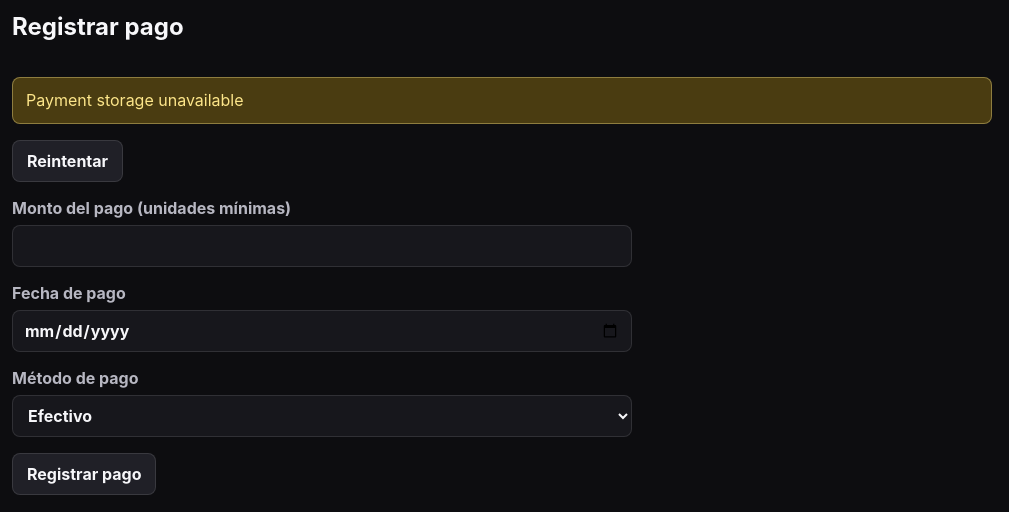
PaymentForm › retries a failed payment load from the production form and restores its controls and status
Check: the message reads "Payment storage unavailable", box [26,90,244,110]
Click the button "Reintentar": point(68, 161) [12,140,123,182]
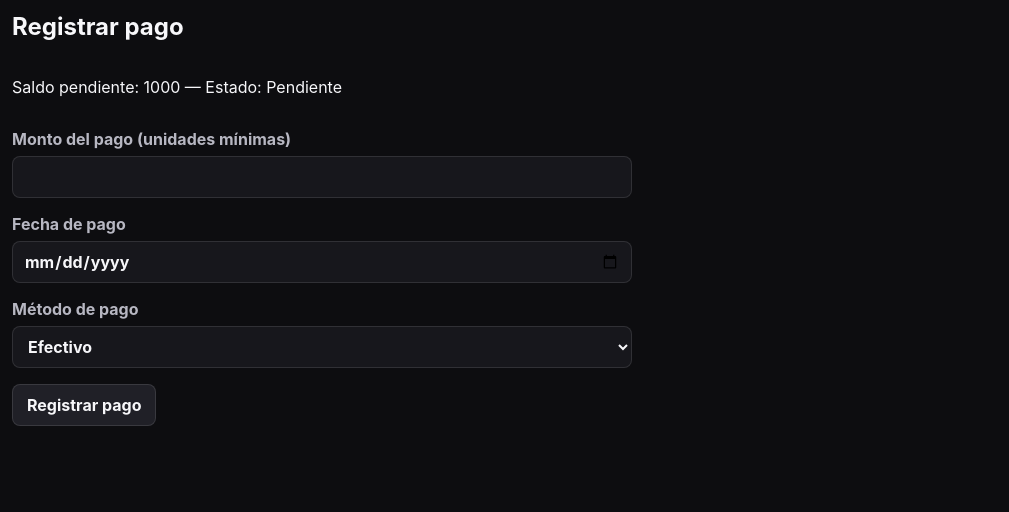
Check: the text "Saldo pendiente: 1000 — Estado: Pendiente" is shown, box [12,77,342,97]
Check: the button "Reintentar" is gone
Check: the button "Registrar pago" is enabled, box [12,384,156,426]
